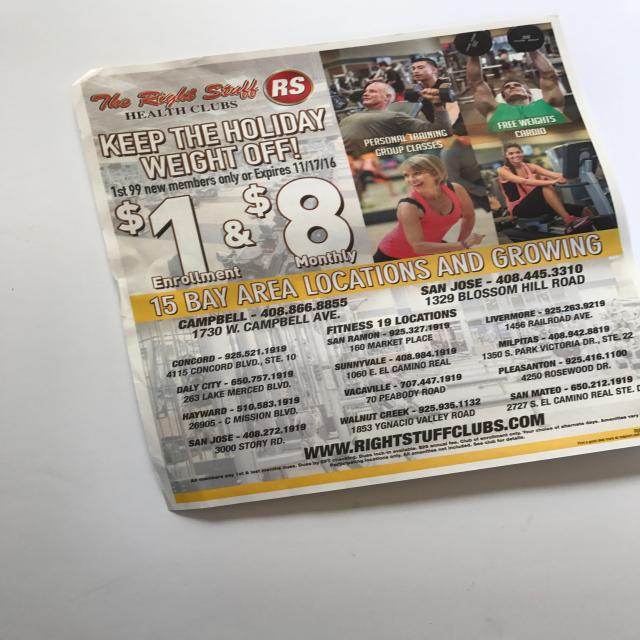paper: (71, 20, 639, 512)
